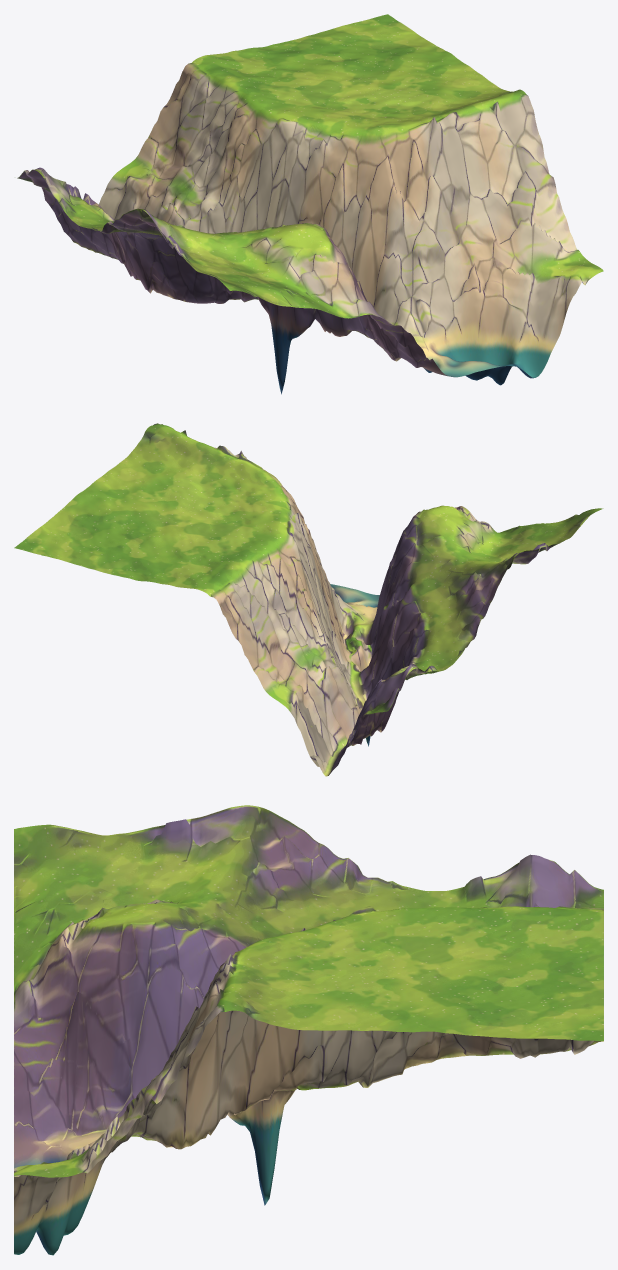
The model's file is terrain_tile_test.glb.
3 views of the same model, one above another, from view 1: azimuth 30°, elevation 25°; view 2: azimuth 150°, elevation 25°; view 3: azimuth 270°, elevation 25° (orthographic). The views are drawn at different scales.
Parts seen in each view (by area): view 1: terrain_tile_test; view 2: terrain_tile_test; view 3: terrain_tile_test.
Boxes of the visible parts, x1,y1,x2,y2 form: terrain_tile_test: (17, 14, 603, 394); terrain_tile_test: (14, 423, 603, 776); terrain_tile_test: (14, 805, 603, 1255).
Bounding box in the file's own units: 64 × 42.02 × 64.
1 material, 1 textured.
